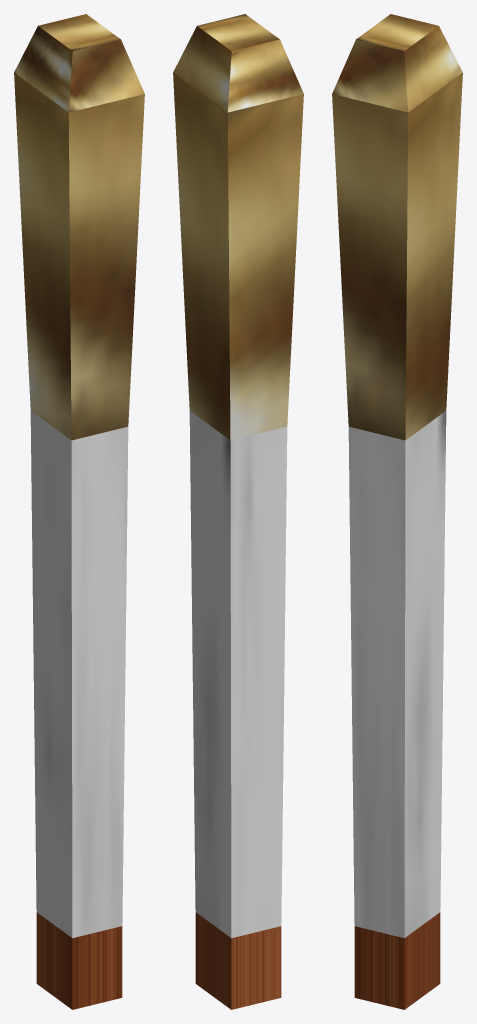
The model's file is Leaver.fbx.
The picture shows the model from 3 angles, left to right: view 1: azimuth 30°, elevation 25°; view 2: azimuth 210°, elevation 25°; view 3: azimuth 330°, elevation 25°; orthographic projection.
Visible parts, largest first — view 1: Lever; view 2: Lever; view 3: Lever.
Boxes of the visible parts, x1,y1,x2,y2 form: Lever: (14, 14, 144, 1009); Lever: (173, 14, 303, 1009); Lever: (332, 14, 462, 1009).
Size of the model in its own units: 23.24 by 279 by 28.93.
